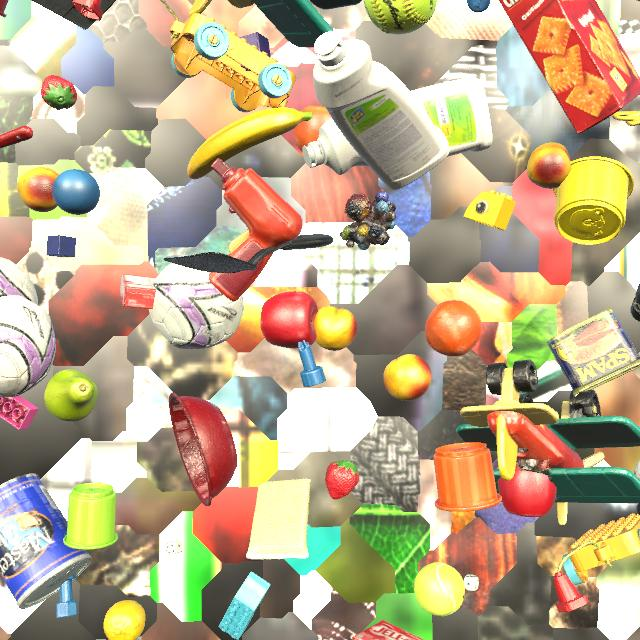ycb_002_master_chef_can: (0, 473, 92, 609)
ycb_003_cracker_box: (499, 0, 640, 134)
ycb_008_pudding_box: (32, 0, 116, 30), (637, 0, 640, 1)
ycb_009_gelatin_box: (352, 620, 424, 640), (120, 274, 156, 309)
ycb_010_potted_meat_can: (547, 309, 640, 397)
ycb_011_banana: (187, 108, 312, 179)
ycb_012_strawberry: (325, 460, 359, 499), (41, 75, 77, 110)
ycb_013_apple: (260, 291, 318, 348), (498, 468, 557, 517)
ycb_014_lemon: (104, 600, 146, 640)
ycb_015_peach: (383, 354, 432, 401), (527, 142, 571, 189), (314, 306, 358, 351), (17, 167, 59, 212)
ycb_016_pear: (44, 369, 98, 422)
ycb_017_orange: (425, 300, 482, 357), (293, 105, 331, 153)
